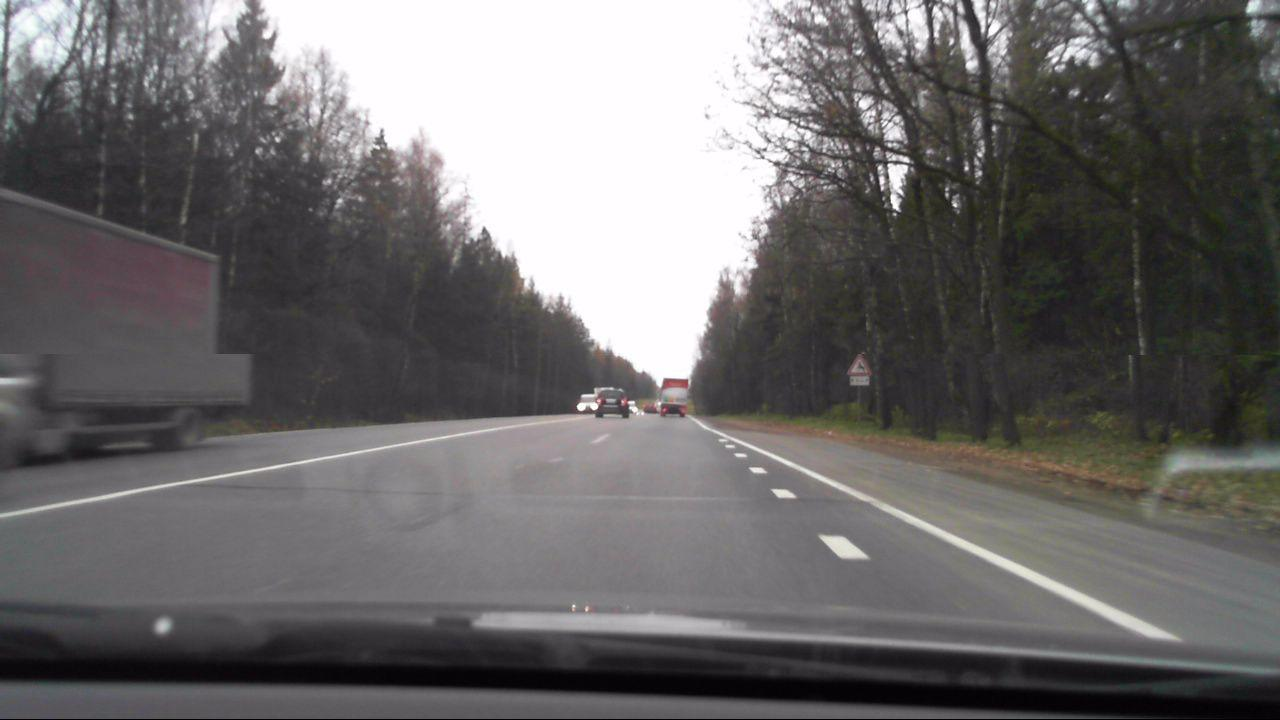1_27: (846, 353, 871, 376)
8_2_1: (850, 375, 871, 386)
